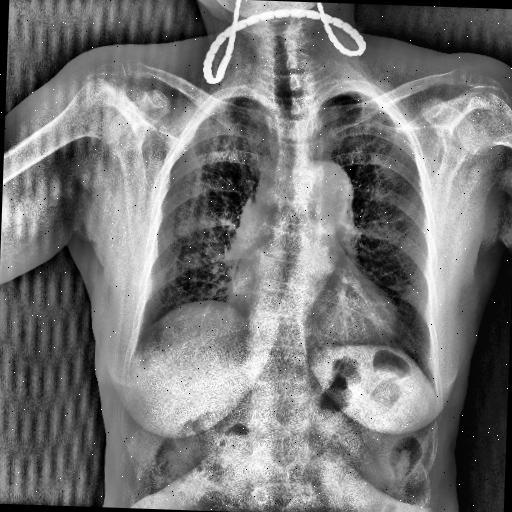0- Aortic enlargement: (279, 158, 366, 243), (257, 156, 356, 224), (306, 154, 362, 244)
8- Nodule-Mass: (174, 218, 190, 237)
